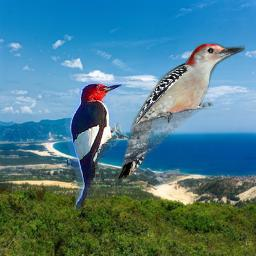Woodpecker: (117, 42, 245, 181), (59, 74, 129, 210)
